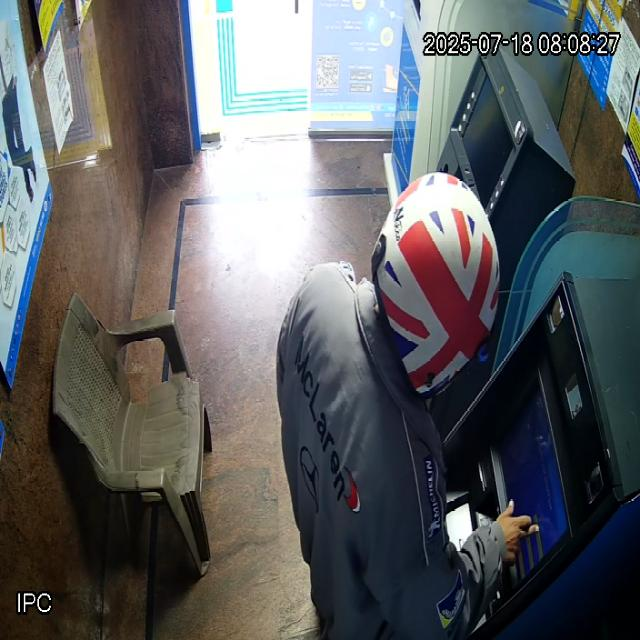helmet: (370, 171, 500, 398)
